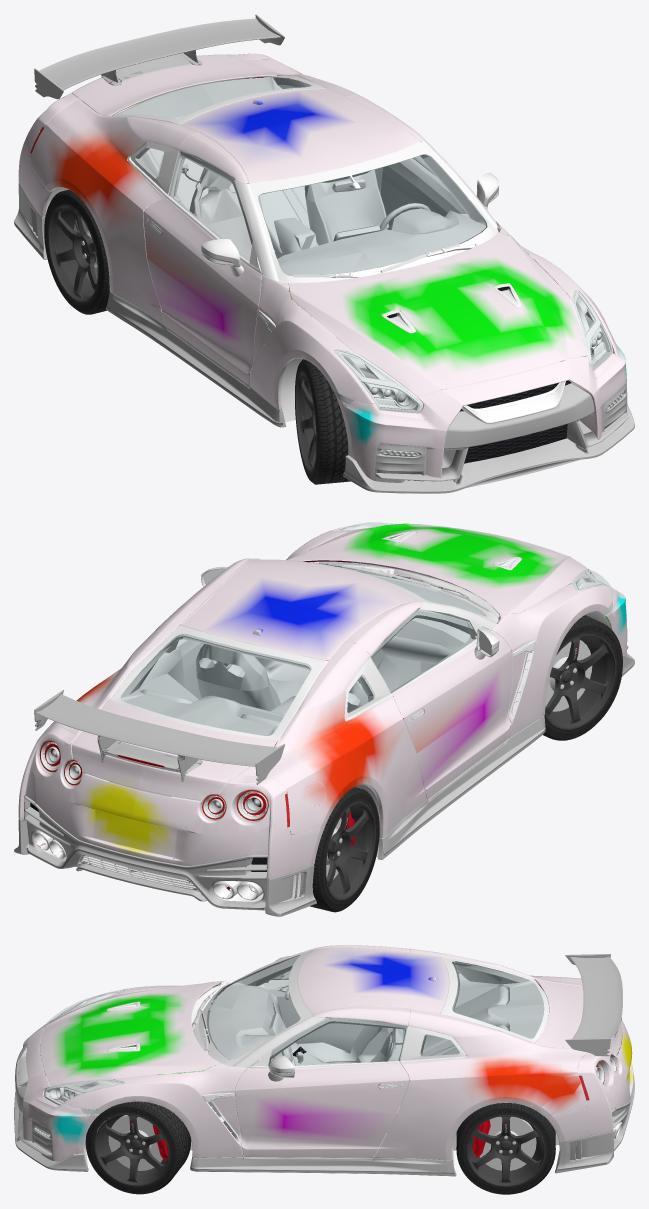
The model's file is nissan.fbx.
3 renders of one model, top to bottom at view 1: azimuth 30°, elevation 25°; view 2: azimuth 150°, elevation 25°; view 3: azimuth 270°, elevation 25°, orthographic. The views are drawn at different scales.
Parts seen in each view (by area): view 1: Empty, wheel.002, wheel.001; view 2: Empty, wheel.001, wheel.002; view 3: Empty, wheel, wheel.003.
Boxes of the visible parts, x1,y1,x2,y2 form: Empty: (14, 14, 634, 493); wheel.002: (44, 189, 109, 314); wheel.001: (295, 359, 350, 484); Empty: (14, 523, 634, 916); wheel.001: (543, 615, 622, 740); wheel.002: (310, 787, 379, 912); Empty: (14, 945, 634, 1176); wheel: (85, 1101, 191, 1194); wheel.003: (456, 1103, 555, 1194).
Bounding box in the file's own units: 101 × 68.58 × 228.
